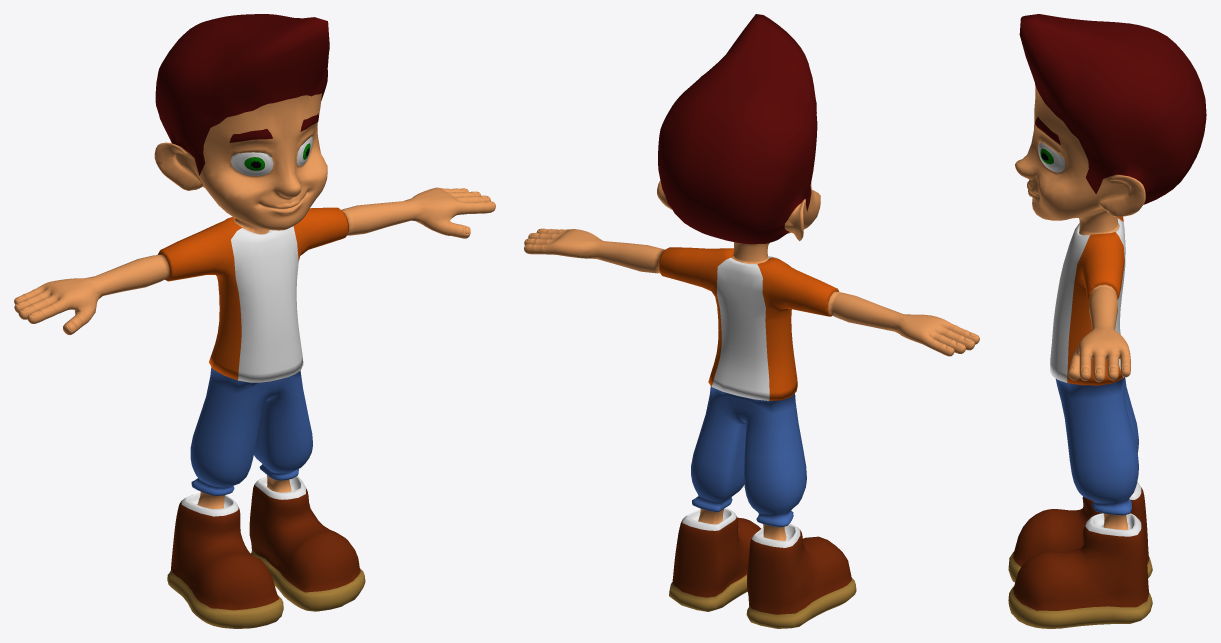
Rendered from cartoon_character.glb.
3 renders of one model, left to right at view 1: azimuth 30°, elevation 25°; view 2: azimuth 150°, elevation 25°; view 3: azimuth 270°, elevation 25°, orthographic. The views are drawn at different scales.
Parts seen in each view (by area): view 1: Material_003-material, Material_004-material, Material_008-material, Material_007-material, Material_006-material, Material_005-material, Material-material; view 2: Material_004-material, Material_007-material, Material_008-material, Material_003-material, Material_005-material, Material_006-material, Material-material; view 3: Material_004-material, Material_003-material, Material_008-material, Material_007-material, Material_006-material, Material_005-material, Material-material.
Part boxes in pixels (x1,y1,x2,y2): Material_003-material: (14, 93, 495, 509); Material_004-material: (155, 14, 329, 175); Material_008-material: (171, 485, 360, 610); Material_007-material: (190, 367, 312, 495); Material_006-material: (181, 136, 312, 516); Material_005-material: (157, 207, 348, 380); Material-material: (167, 550, 365, 628); Material_004-material: (658, 14, 817, 244); Material_007-material: (691, 386, 806, 527); Material_008-material: (672, 516, 851, 614); Material_003-material: (524, 180, 979, 540); Material_005-material: (658, 247, 839, 400); Material_006-material: (682, 256, 800, 547); Material-material: (669, 575, 856, 628); Material_004-material: (1019, 14, 1206, 204); Material_003-material: (1015, 84, 1145, 529); Material_008-material: (1013, 487, 1148, 610); Material_007-material: (1055, 377, 1138, 515); Material_006-material: (1038, 142, 1141, 536); Material_005-material: (1067, 216, 1124, 385); Material-material: (1008, 552, 1152, 628).
Size of the model in its own units: 9.99 by 11.89 by 3.63.
